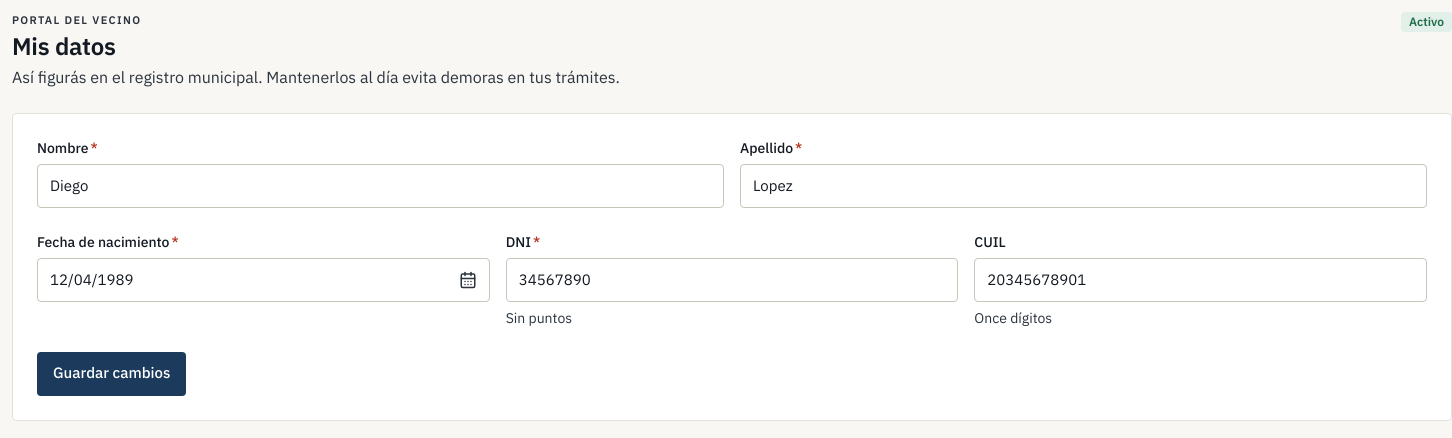
Test case: Perfil › rechaza un DNI que supera los nueve dígitos
The image size is (1452, 438).
Replace the text in the field labelled "DNI" with "1234567890" at (732, 280), box [506, 258, 958, 302]
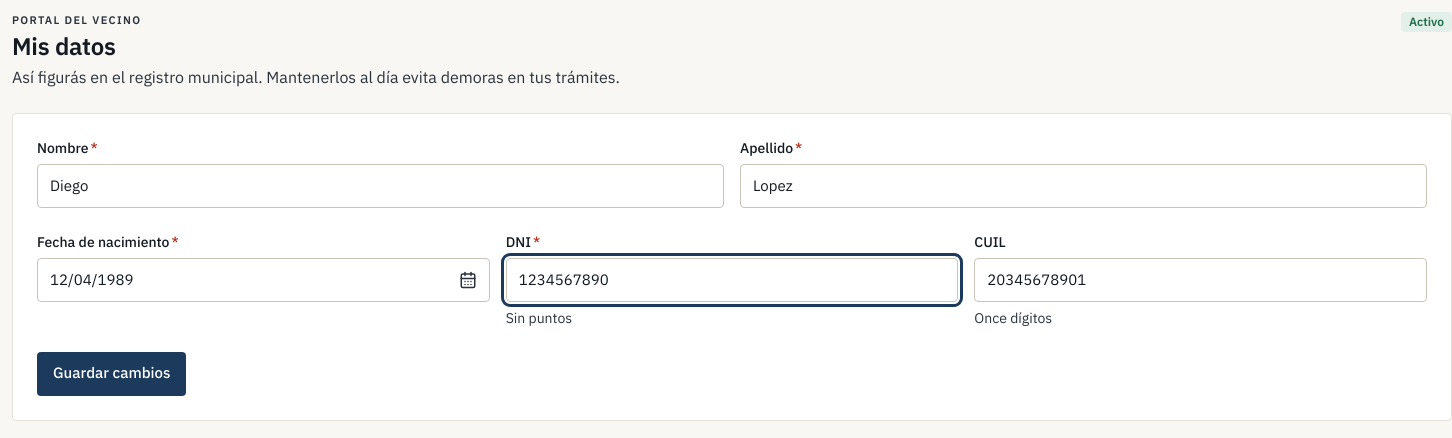
Click the button "Guardar cambios" at (112, 374), box [37, 352, 186, 396]
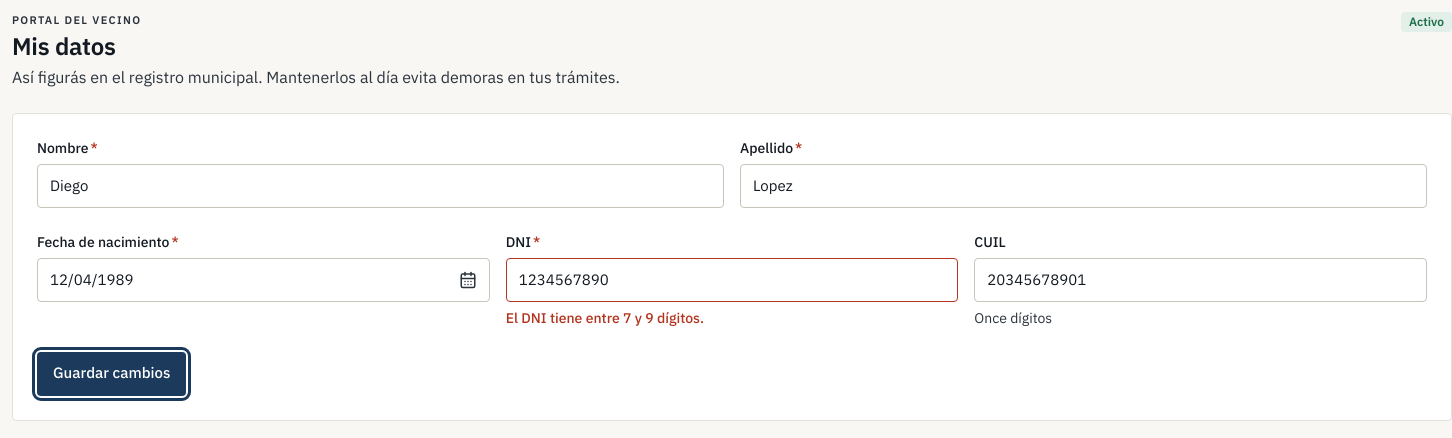
Now the text "El DNI tiene entre 7 y 9 dígitos." is shown, box [506, 308, 704, 326]
